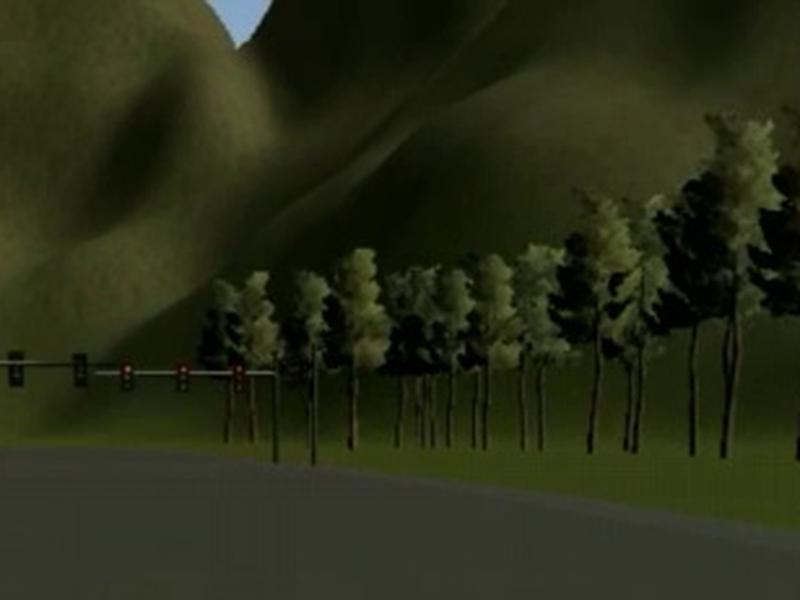Red: (121, 362, 135, 392), (232, 363, 245, 392), (177, 364, 189, 393)
